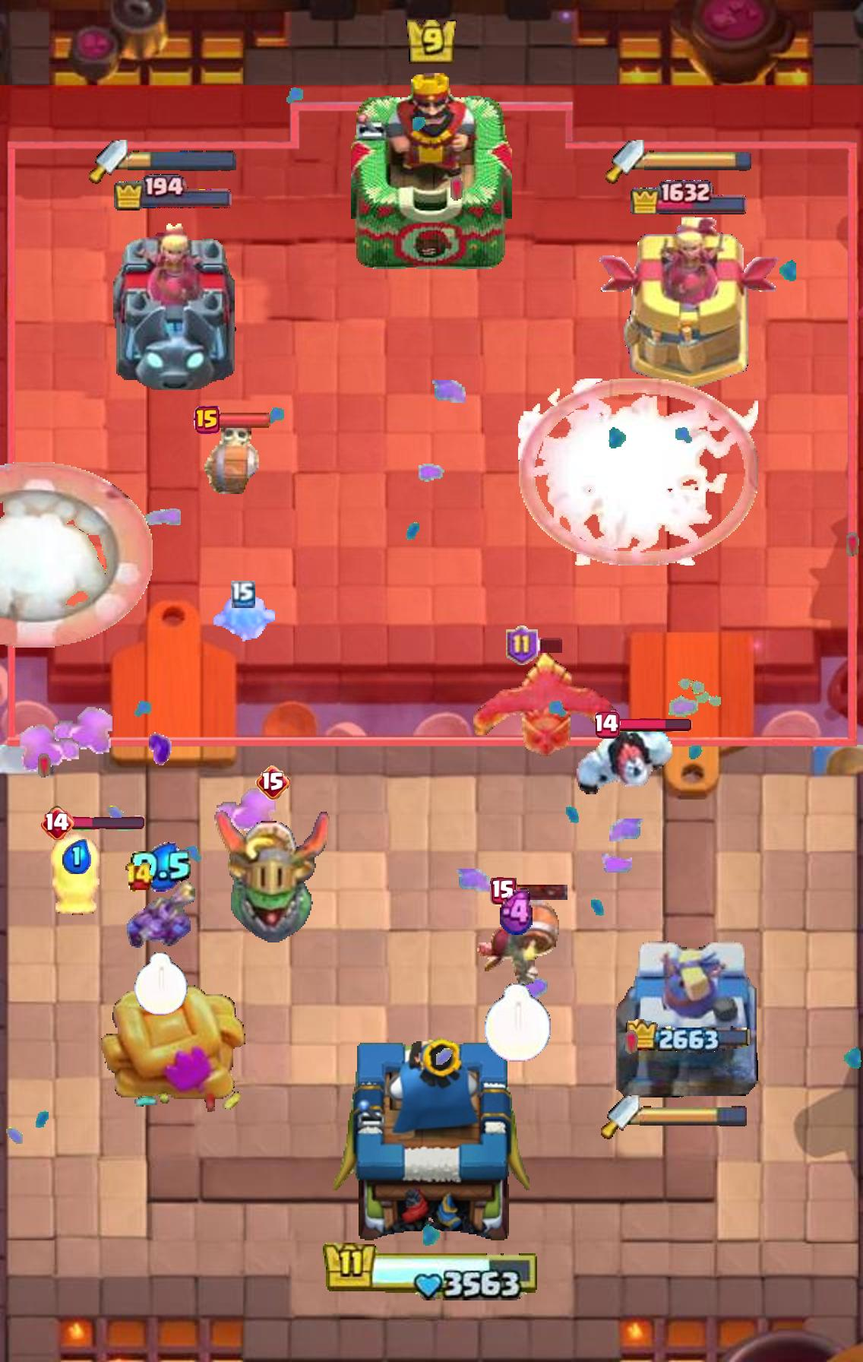bar: (71, 816, 145, 831), (512, 882, 568, 901), (617, 718, 692, 732), (217, 412, 271, 429), (534, 637, 564, 654)
bar-level: (506, 626, 538, 665), (255, 765, 290, 800), (41, 805, 74, 839), (125, 862, 153, 892), (193, 405, 220, 434), (594, 711, 621, 739), (490, 877, 516, 906)
